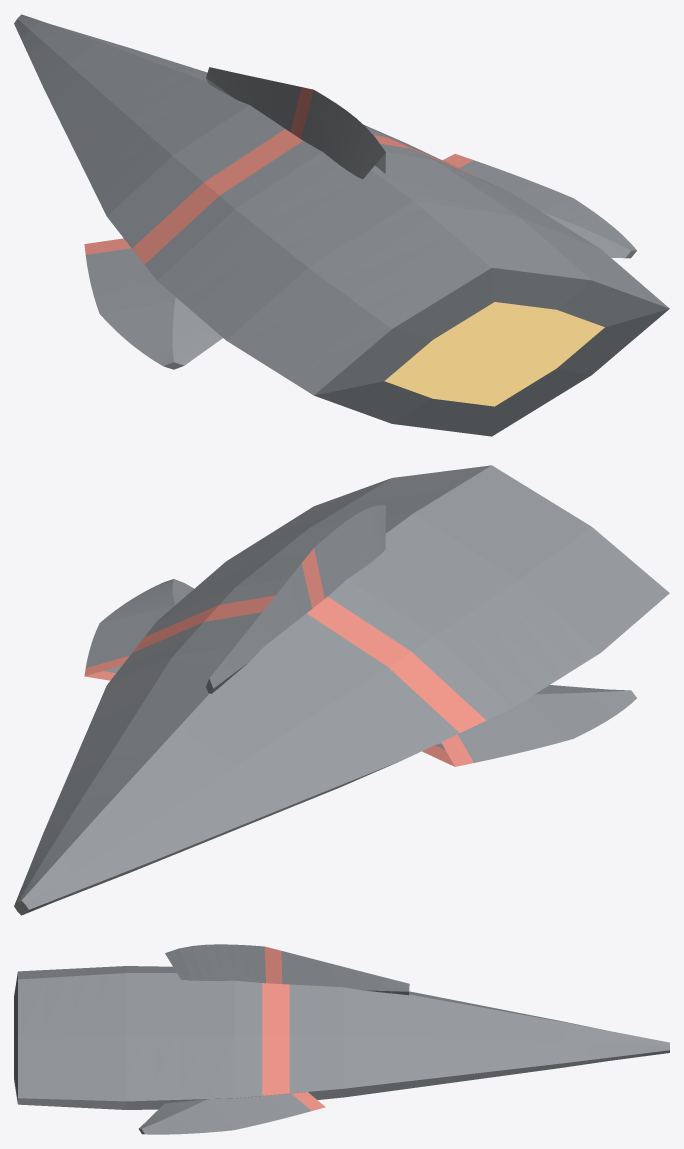
Rendered from kethran_dd.glb.
The picture shows the model from 3 angles, top to bottom: view 1: azimuth 30°, elevation 25°; view 2: azimuth 150°, elevation 25°; view 3: azimuth 270°, elevation 25°; orthographic projection. The views are drawn at different scales.
Parts seen in each view (by area): view 1: hull_mesh, limb_0_mesh, limb_1_mesh, limb_0_port_mesh; view 2: hull_mesh, limb_0_mesh, limb_1_mesh, limb_0_port_mesh; view 3: hull_mesh, limb_1_mesh, limb_0_port_mesh.
Boxes of the visible parts, <box> form: hull_mesh: <box>14,14,669,436</box>; limb_0_mesh: <box>84,238,222,369</box>; limb_1_mesh: <box>206,67,385,179</box>; limb_0_port_mesh: <box>442,154,636,258</box>; hull_mesh: <box>14,465,669,915</box>; limb_0_mesh: <box>422,685,636,766</box>; limb_1_mesh: <box>206,505,385,693</box>; limb_0_port_mesh: <box>84,579,193,680</box>; hull_mesh: <box>14,966,669,1109</box>; limb_1_mesh: <box>165,944,409,995</box>; limb_0_port_mesh: <box>138,1092,325,1134</box>.
Size of the model in its own units: 54.4 by 24.7 by 92.55.
